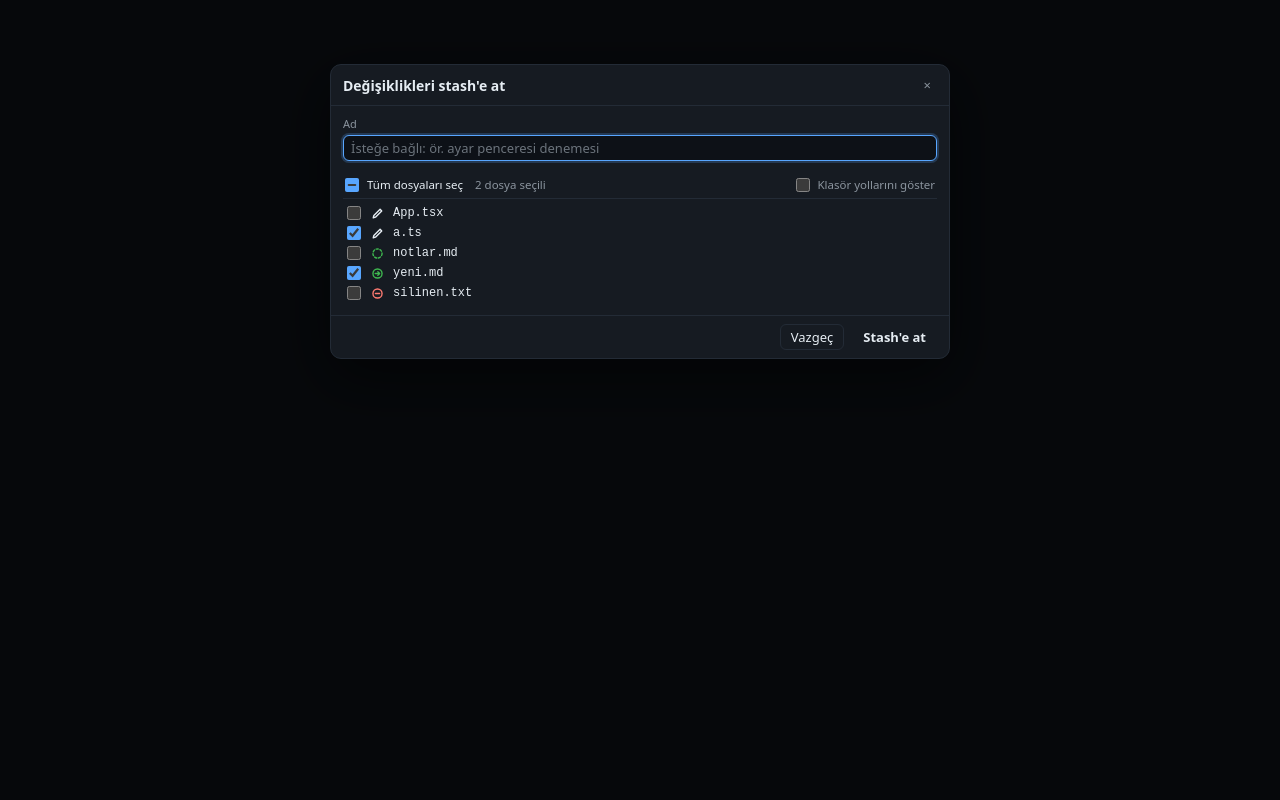
Test: hata › hata kutusu kapatılabiliyor
The width and height of the screenshot is (1280, 800).
What coordinates should you click on to do the following:
click the button "Stash'e at"
I would click on:
 (895, 337)
Its box is [852,324,937,350].
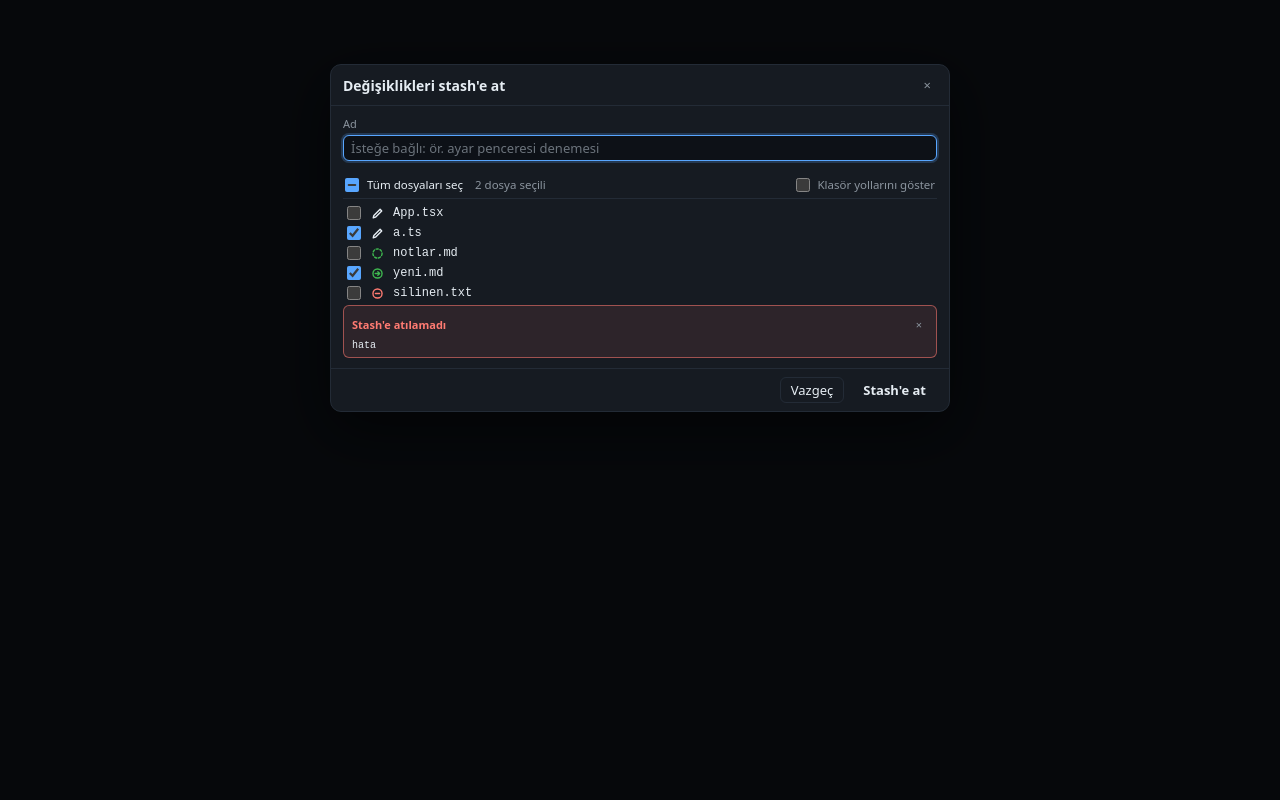
What coordinates should you click on to do the following:
click the button "×" in the row of "Stash'e atılamadı"
I would click on:
 (919, 324)
Its box is [910,312,928,336].
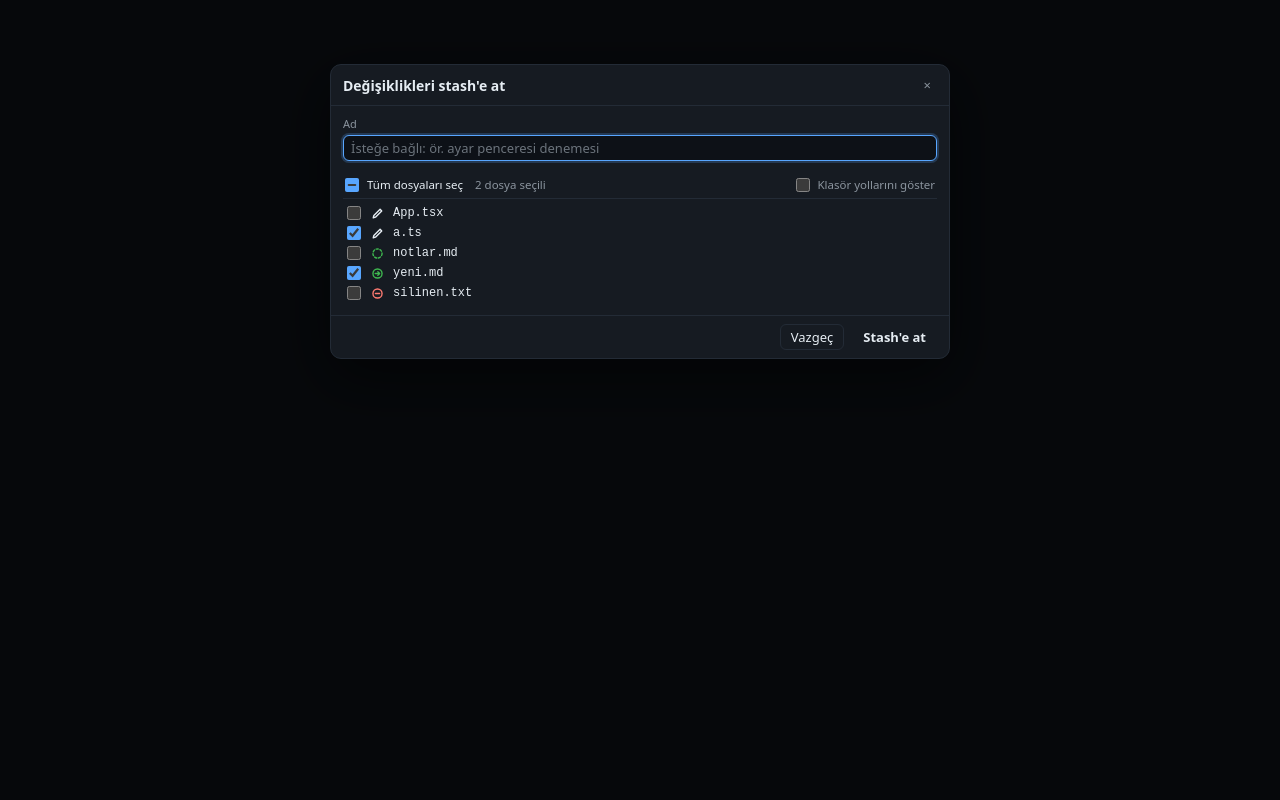
Expected: the message with class "git-commit-error" is gone
